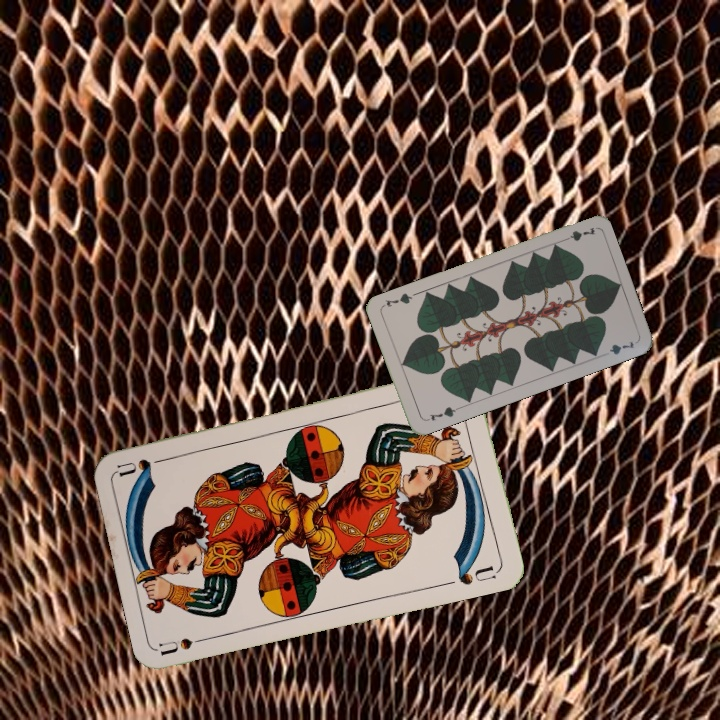G7: (422, 402, 461, 424), (557, 223, 597, 244)
SU: (157, 632, 216, 657)
